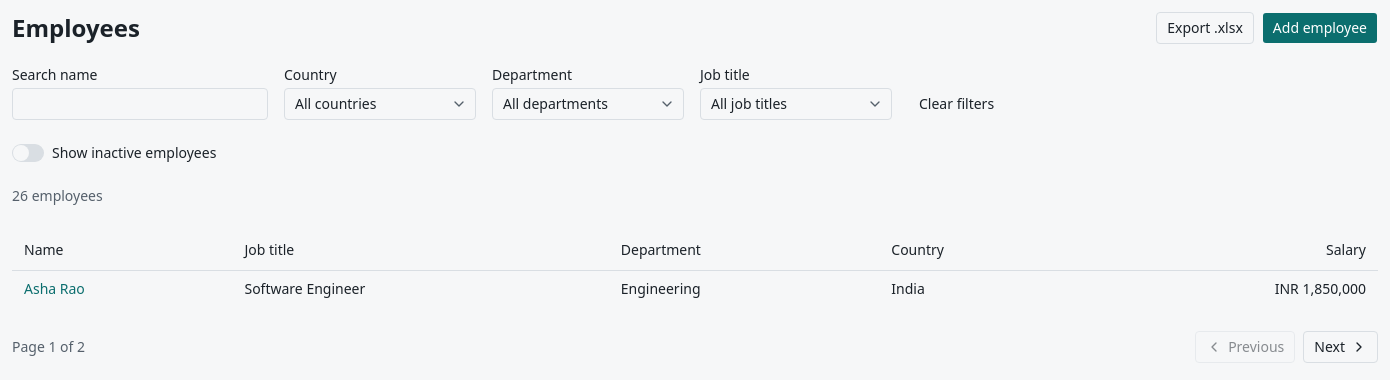
Test case: EmployeeListPage search and filters › clears the search and every filter and shows the full list again
Expected: the link "Asha Rao" is shown, [24, 279, 85, 298]
Type "nobody" into the field labelled "Search name" at {"x": 140, "y": 104}, box [12, 88, 268, 120]
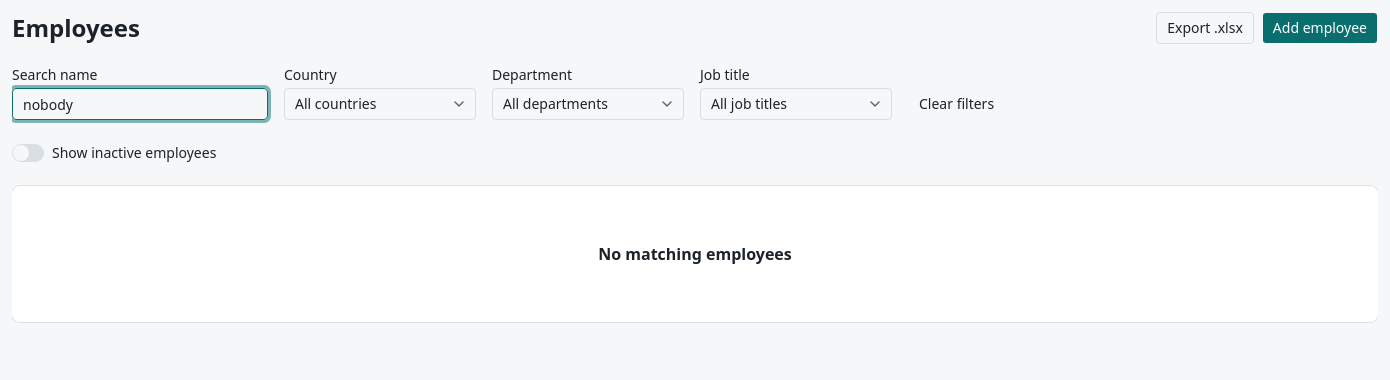
Result: the text "No matching employees" is shown at [598, 242, 792, 266]
Click the dropdown named "Country" at {"x": 380, "y": 104}, box [284, 88, 476, 120]
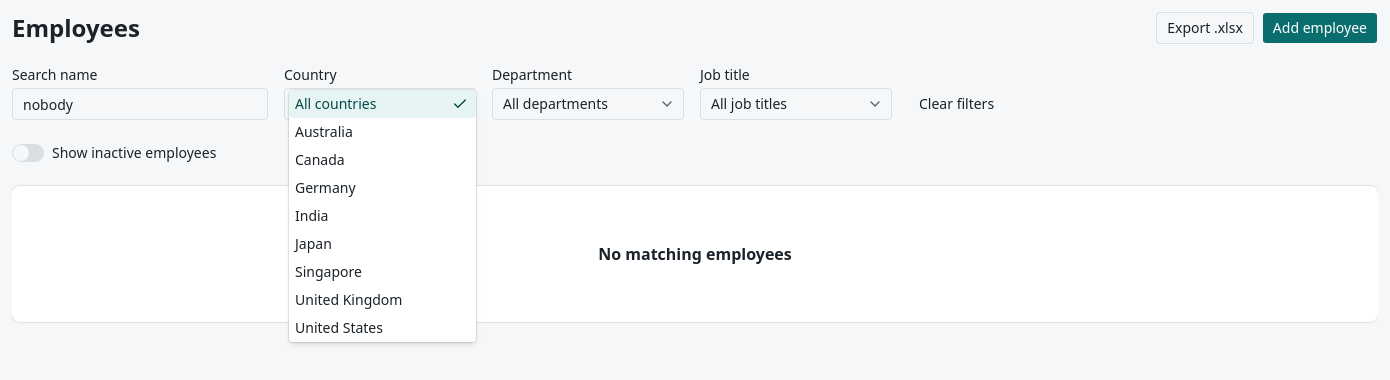
Click the option "India" at {"x": 312, "y": 216}, box [295, 206, 328, 225]
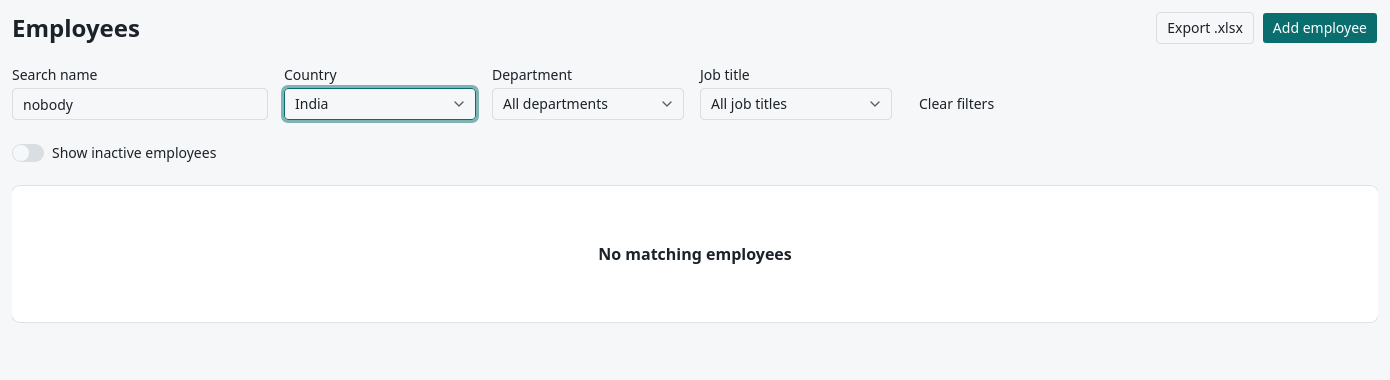
Click the button "Clear filters" at {"x": 957, "y": 104}, box [908, 88, 1005, 120]
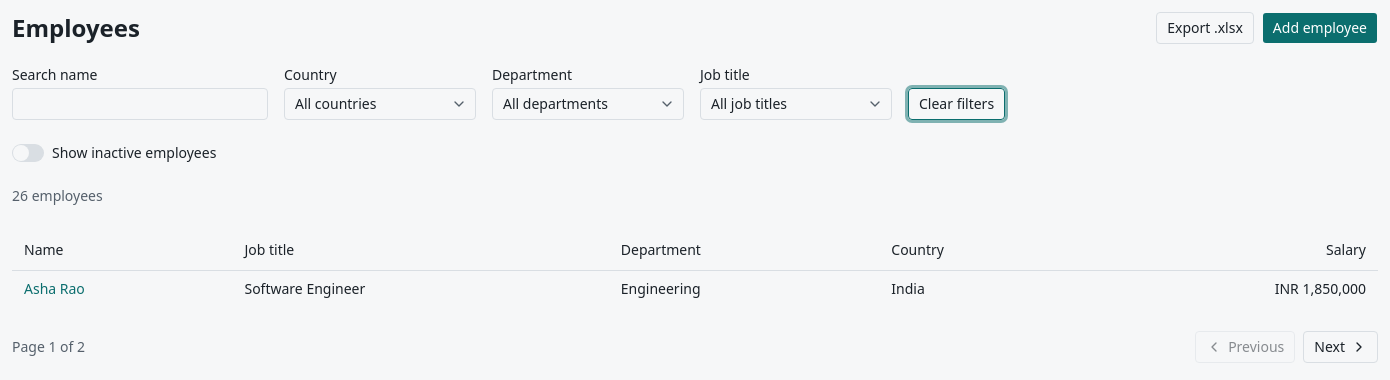
Result: the link "Asha Rao" is shown at [24, 279, 85, 298]
Result: the field labelled "Search name" is empty at [12, 88, 268, 120]
Result: the dropdown named "Country" reads "All countries" at [284, 88, 476, 120]
